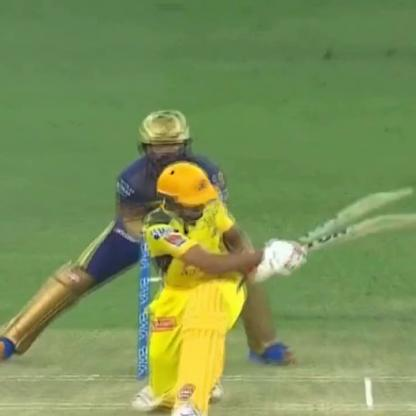bat: (247, 188, 415, 298)
